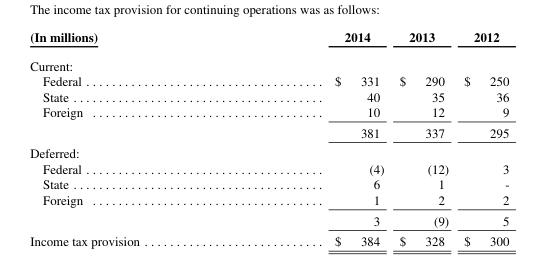table: (29, 29, 508, 248)
table column: (29, 29, 236, 248), (236, 29, 391, 248), (391, 29, 455, 248), (455, 29, 508, 248)
table column header: (29, 29, 508, 51)
table projected row header: (29, 51, 508, 72), (29, 142, 508, 160)
table row: (29, 29, 508, 51), (29, 51, 508, 72), (29, 209, 508, 230), (29, 122, 508, 142), (29, 103, 508, 122), (29, 142, 508, 160), (29, 191, 508, 209), (29, 230, 508, 248), (29, 72, 508, 88), (29, 160, 508, 176), (29, 88, 508, 103), (29, 176, 508, 191)
